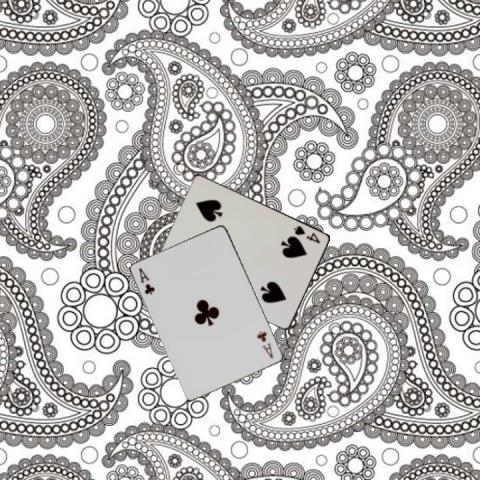4s: (291, 222, 322, 244)
Ac: (254, 329, 275, 360), (136, 265, 157, 296)
